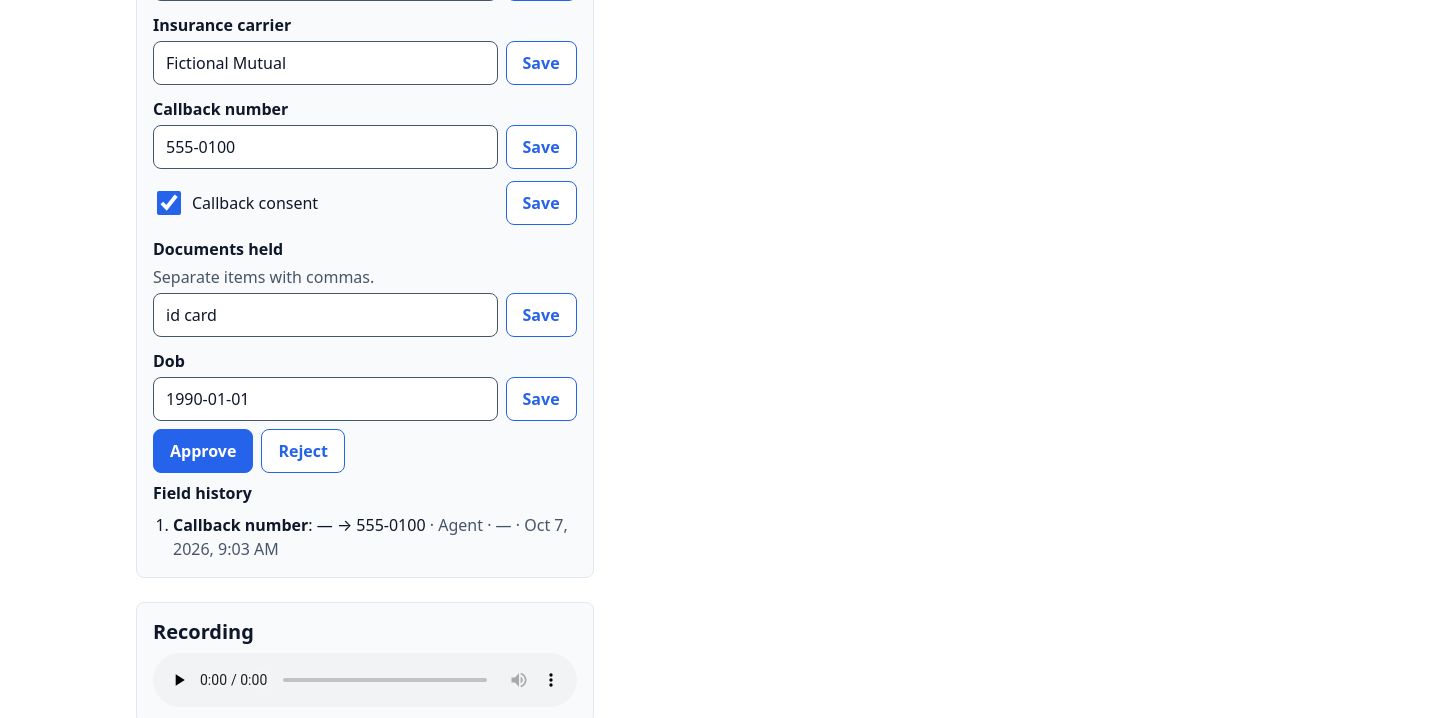
call detail page › shows the conflict notice and refetches on 409
(page scrolled)
Click the button with test id "form-approve" at (203, 451), box top-left (153, 429), bottom-right (253, 473)
(page scrolled)
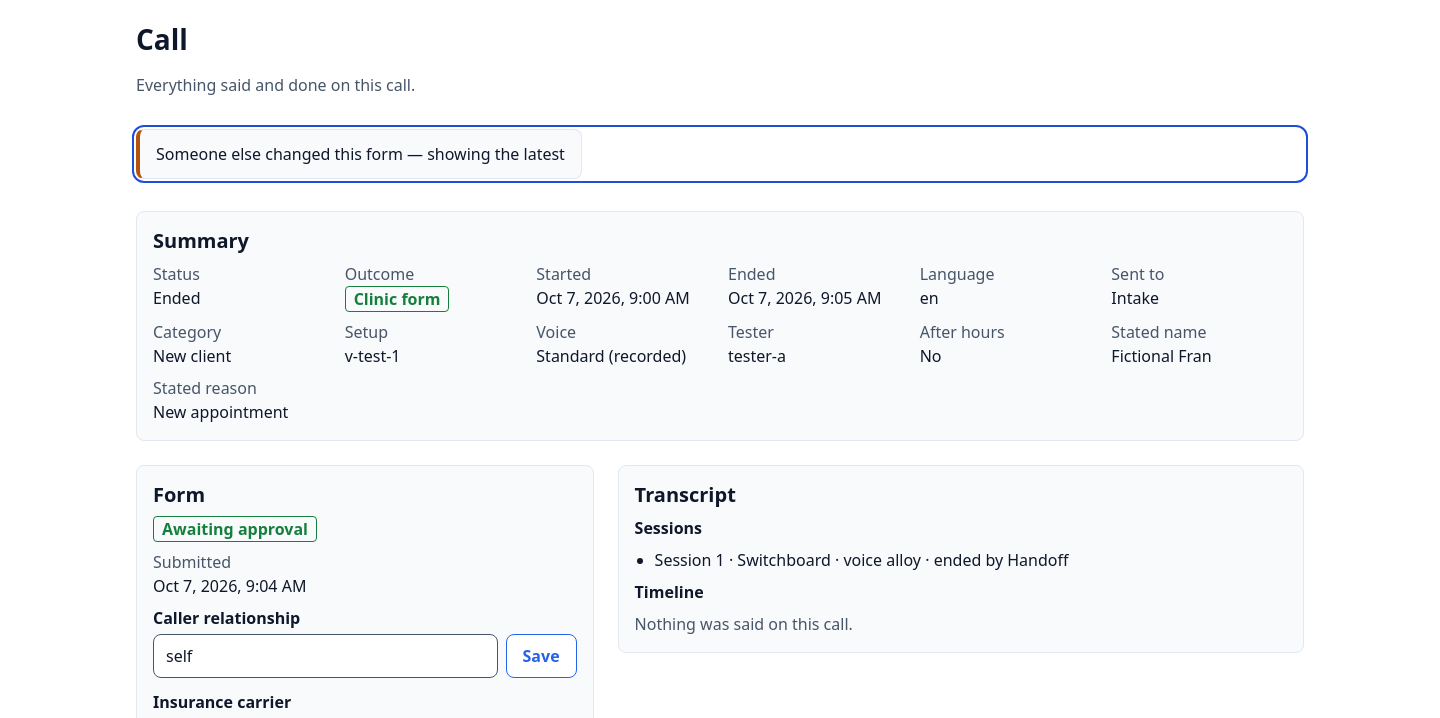
Check: the message with test id "detail-conflict" reads "Someone else changed this form — showing the latest", box top-left (156, 143), bottom-right (565, 165)
